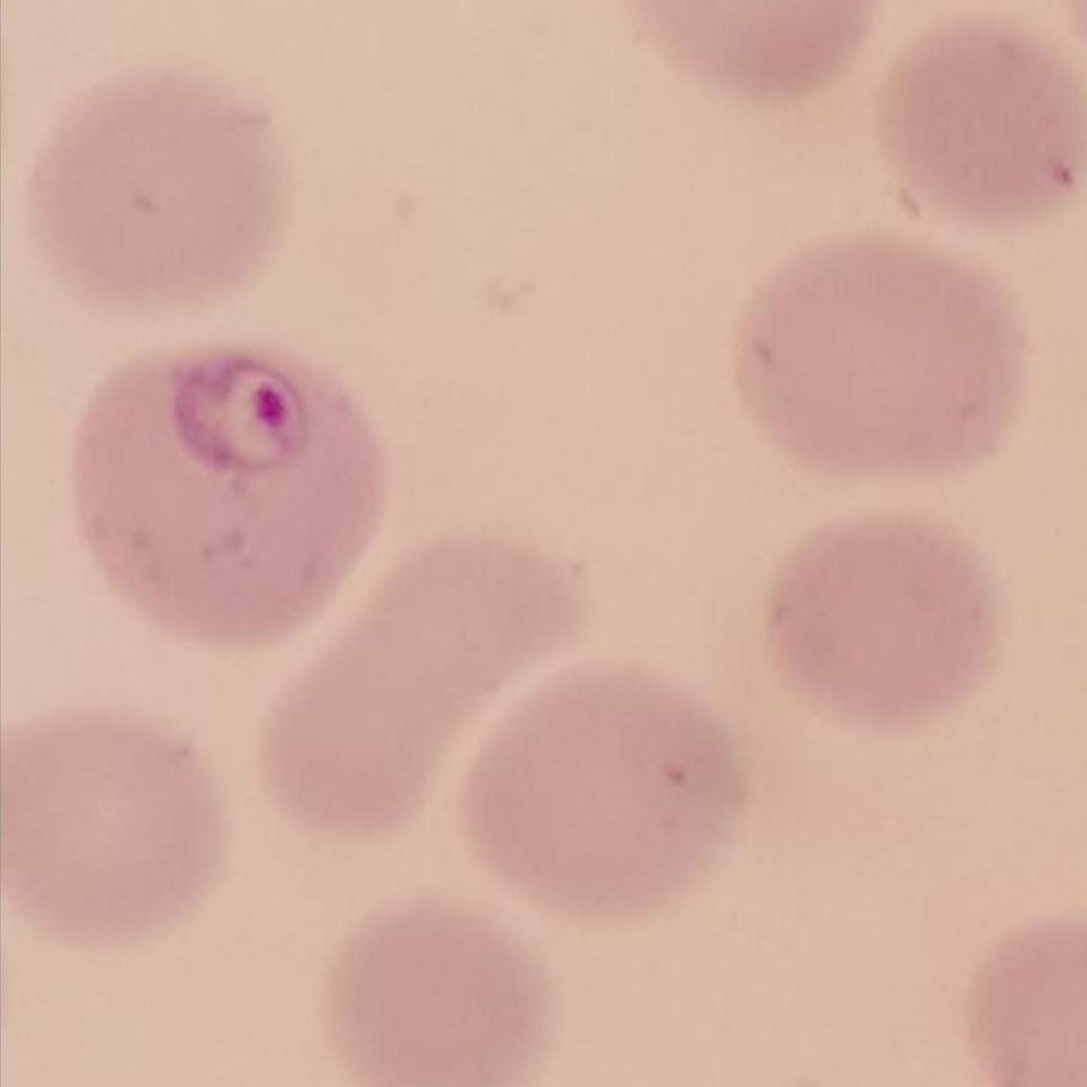Infected: (72, 347, 385, 645)
Uninfected: (258, 532, 573, 834), (735, 230, 1030, 477), (460, 664, 736, 905), (32, 68, 278, 308), (0, 711, 231, 938), (771, 508, 1001, 725), (886, 19, 1084, 231), (321, 904, 550, 1087)
